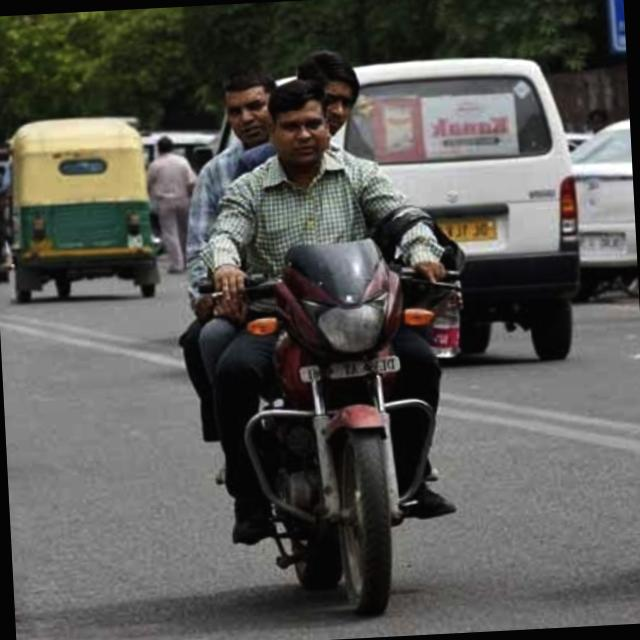WithoutHelmet: (189, 73, 462, 547), (165, 68, 295, 447), (223, 49, 367, 189)
